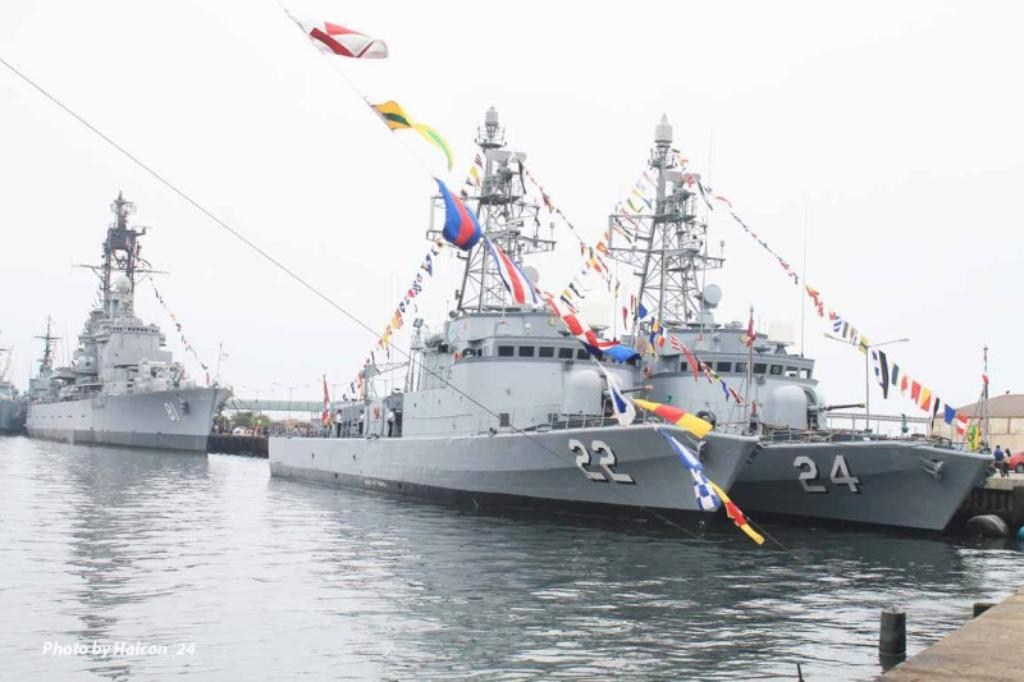Warship: (264, 100, 758, 530), (594, 105, 1004, 542), (28, 185, 232, 457)
